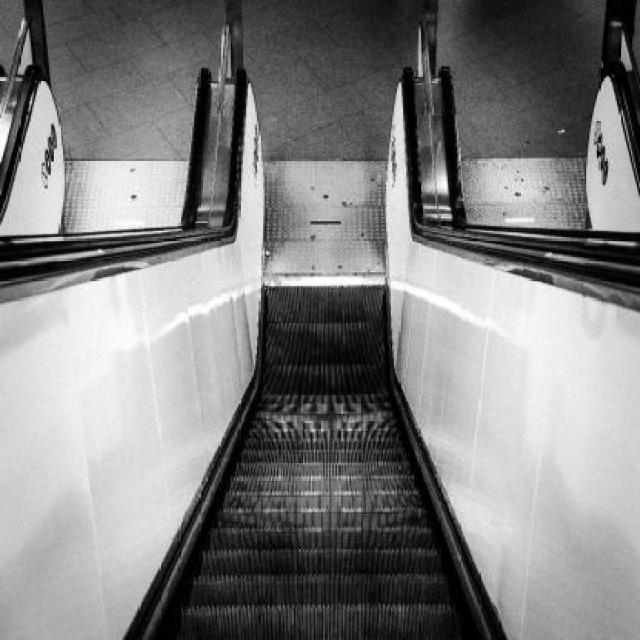stair: (170, 287, 475, 640)
